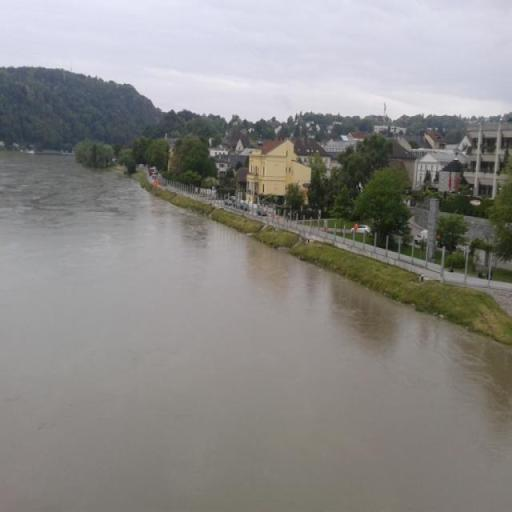flood: (0, 152, 512, 512)
house: (246, 138, 314, 203), (463, 125, 512, 200), (210, 146, 230, 178)
